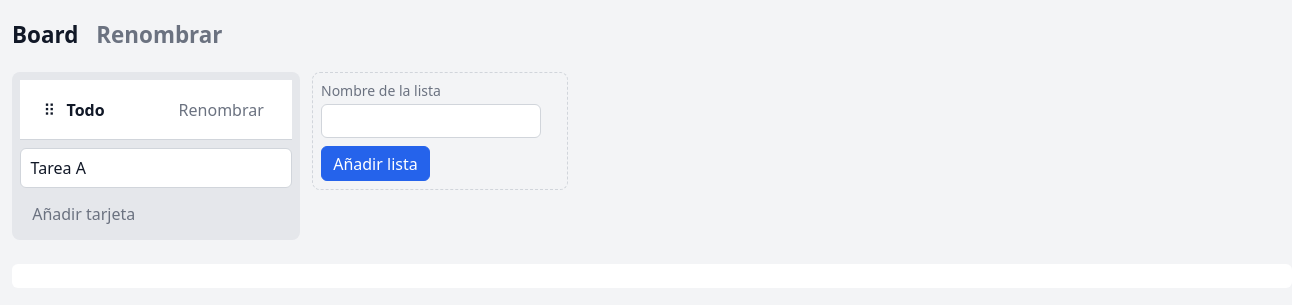
BoardView › no permite crear una lista con nombre vacio
This screenshot has width=1292, height=305.
Click the button "Añadir lista": (375, 164) [321,146,430,181]
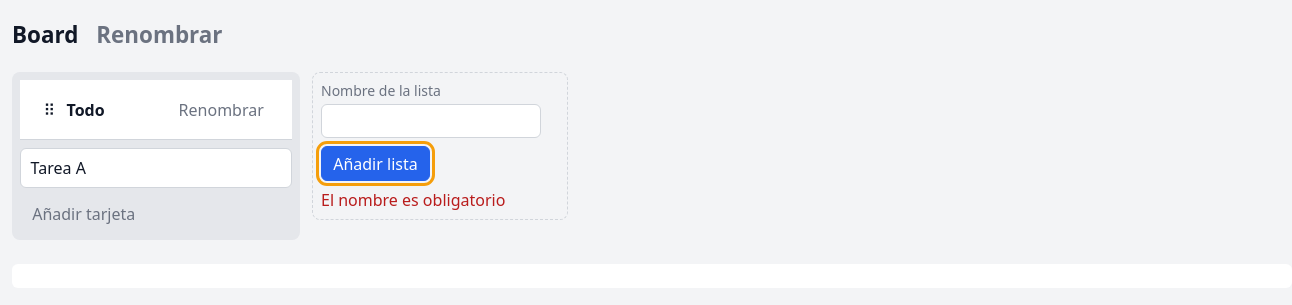
Check: the message "El nombre es obligatorio" is shown, box [321,189,505,211]
